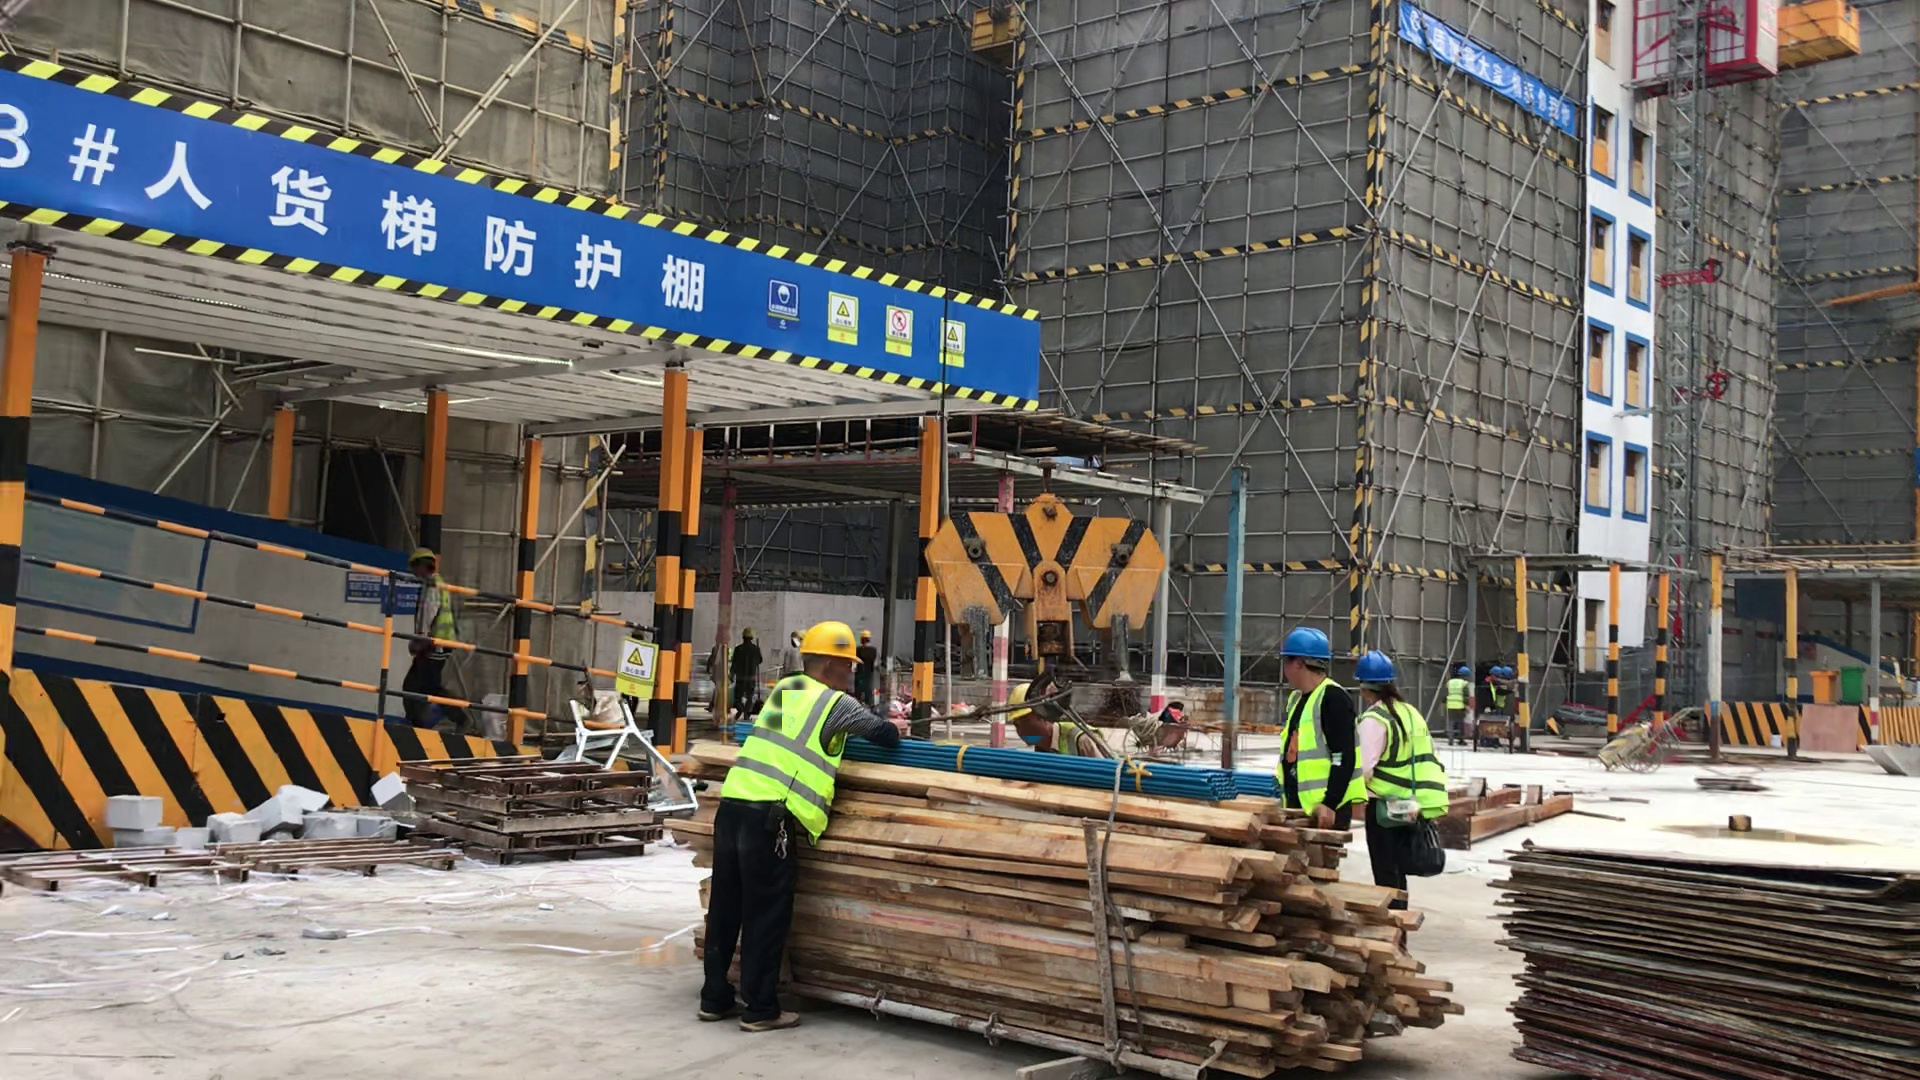board: (1491, 833, 1920, 1077)
helmet: (797, 619, 862, 665), (1005, 681, 1053, 724), (1274, 626, 1334, 661), (1351, 648, 1399, 684), (405, 546, 441, 566), (1491, 662, 1519, 679), (740, 624, 760, 639), (1457, 661, 1472, 678), (857, 628, 872, 640)
hook: (915, 489, 1174, 646)
person: (698, 617, 903, 1038), (1349, 648, 1446, 955), (1276, 624, 1370, 847), (403, 545, 473, 738), (1004, 683, 1114, 768), (731, 624, 764, 727), (1443, 665, 1478, 749), (1486, 665, 1519, 730), (859, 625, 880, 711)
slogan: (14, 52, 1042, 416), (1412, 17, 1571, 143)
vest: (1255, 669, 1446, 815), (710, 669, 847, 847)
wood: (679, 742, 1470, 1080)
